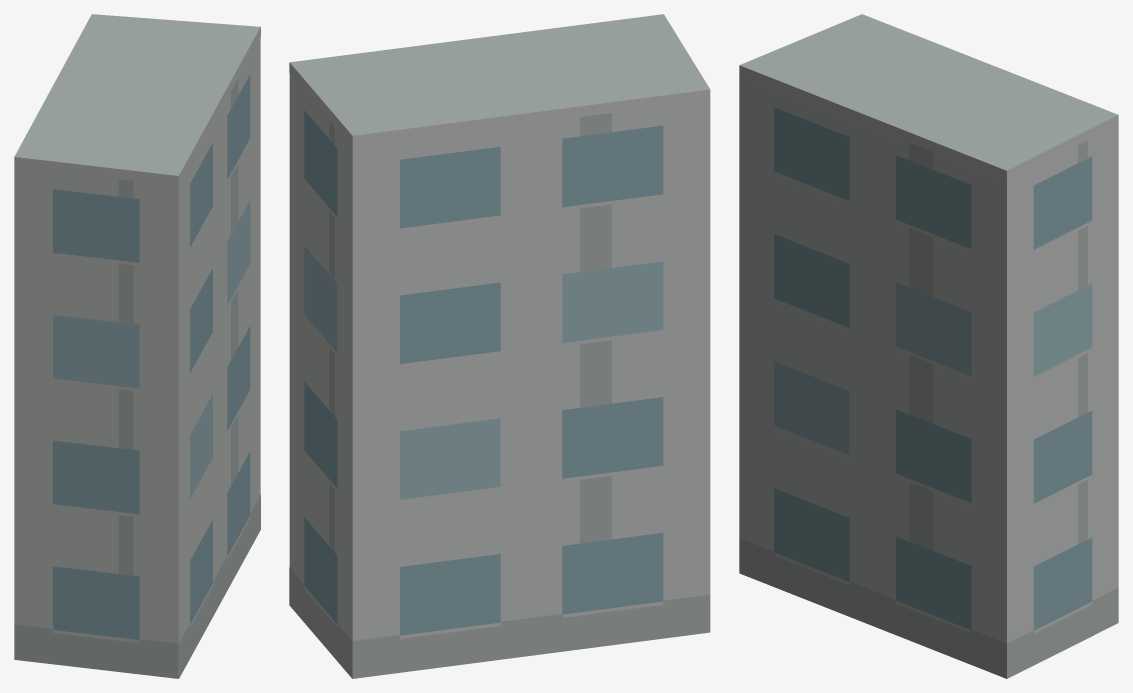
Rendered from survey-upis-32522162.glb.
3 views of the same model, side by side, from view 1: azimuth 30°, elevation 25°; view 2: azimuth 150°, elevation 25°; view 3: azimuth 270°, elevation 25° (orthographic). The views are drawn at different scales.
Visible parts, largest first — view 1: survey-upis-32522162.tmp; view 2: survey-upis-32522162.tmp; view 3: survey-upis-32522162.tmp.
Boxes of the visible parts, left/top/right/bottom form: survey-upis-32522162.tmp: left=14, top=14, right=260, bottom=678; survey-upis-32522162.tmp: left=289, top=14, right=710, bottom=678; survey-upis-32522162.tmp: left=739, top=14, right=1118, bottom=678.
Size of the model in its own units: 8.08 by 12.2 by 8.26.
